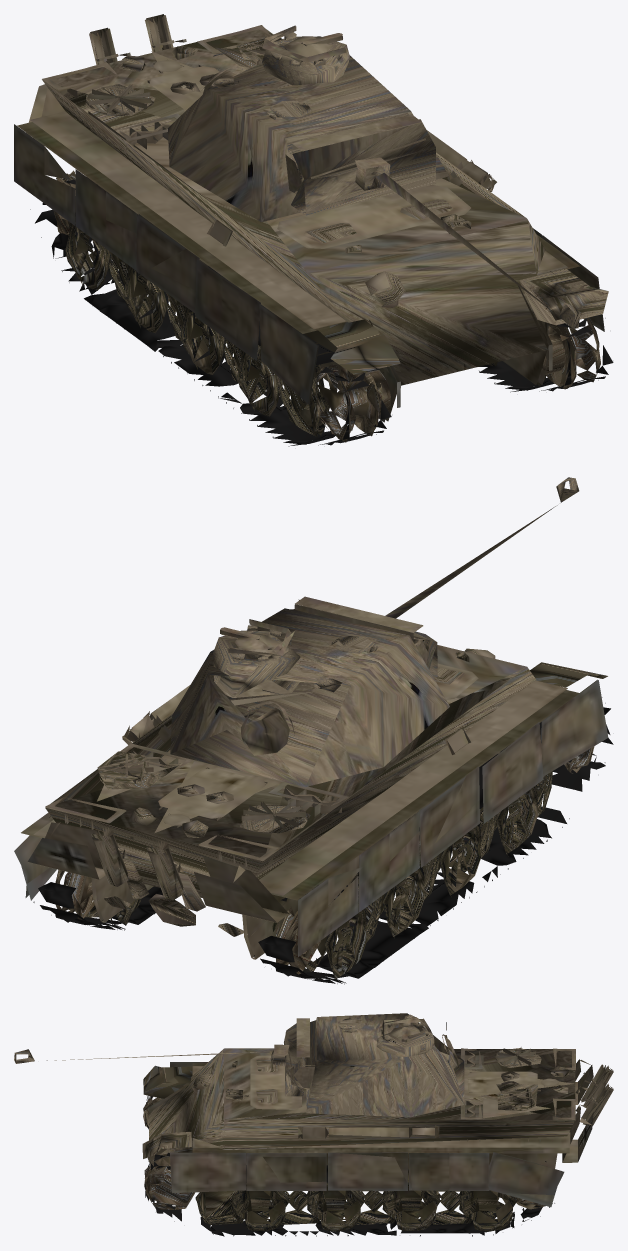
Rendered from panther_g_mobil.glb.
3 renders of one model, top to bottom at view 1: azimuth 30°, elevation 25°; view 2: azimuth 150°, elevation 25°; view 3: azimuth 270°, elevation 25°, orthographic. The views are drawn at different scales.
Parts seen in each view (by area): view 1: Plane004, Plane005, Box052, Object024_Material #29_0, Object002_Material #28_0, Box008, wheels001, tracks.002_Material #26_0.001, Box036, tracks.002, Box165, wheels (+25 smaller); view 2: Plane005, Plane004, Box052, Object024_Material #29_0, tracks.002_Material #26_0.001, Cylinder001, tracks.002, Box135, Box010, Box022, Object023_Material #27_0, tracks.001 (+21 smaller); view 3: Plane004, Plane005, Object012_Material #29_0, Box049, Box048, Box050, Box037, Box051, Object017_Material #27_0, Object018_Material #27_0, Object008_Material #27_0, Object019_Material #27_0 (+27 smaller).
Boxes of the visible parts, box(x1,y1,x2,y2) form: Plane004: box(42, 28, 548, 385); Plane005: box(168, 55, 448, 222); Box052: box(14, 124, 318, 404); Object024_Material #29_0: box(17, 111, 346, 333); Object002_Material #28_0: box(291, 119, 436, 215); Box008: box(277, 185, 470, 248); wheels001: box(53, 170, 390, 442); tracks.002_Material #26_0.001: box(158, 337, 391, 446); Box036: box(519, 268, 608, 325); tracks.002: box(35, 177, 316, 351); Box165: box(317, 319, 400, 374); wheels: box(541, 317, 600, 389); Plane005: box(170, 608, 449, 787); Plane004: box(45, 645, 536, 897); Box052: box(298, 679, 608, 956); Object024_Material #29_0: box(259, 680, 578, 900); tracks.002_Material #26_0.001: box(379, 697, 613, 926); Cylinder001: box(213, 630, 300, 697); tracks.002: box(258, 754, 497, 983); Box135: box(194, 856, 288, 922); Box010: box(158, 767, 267, 820); Box022: box(27, 822, 105, 879); Object023_Material #27_0: box(300, 899, 366, 979); tracks.001: box(38, 882, 162, 929); Plane004: box(149, 1048, 575, 1160); Plane005: box(306, 1013, 464, 1117); Object012_Material #29_0: box(192, 1132, 570, 1153); Box049: box(328, 1152, 407, 1190); Box048: box(246, 1153, 326, 1190); Box050: box(409, 1153, 489, 1190); Box037: box(170, 1152, 245, 1193); Box051: box(488, 1152, 564, 1207); Object017_Material #27_0: box(307, 1182, 365, 1231); Object018_Material #27_0: box(382, 1169, 440, 1231); Object008_Material #27_0: box(232, 1182, 289, 1231); Object019_Material #27_0: box(459, 1190, 517, 1232).
Size of the model in its own units: 3.3 by 2.77 by 8.65.
7 materials, 6 textured.
